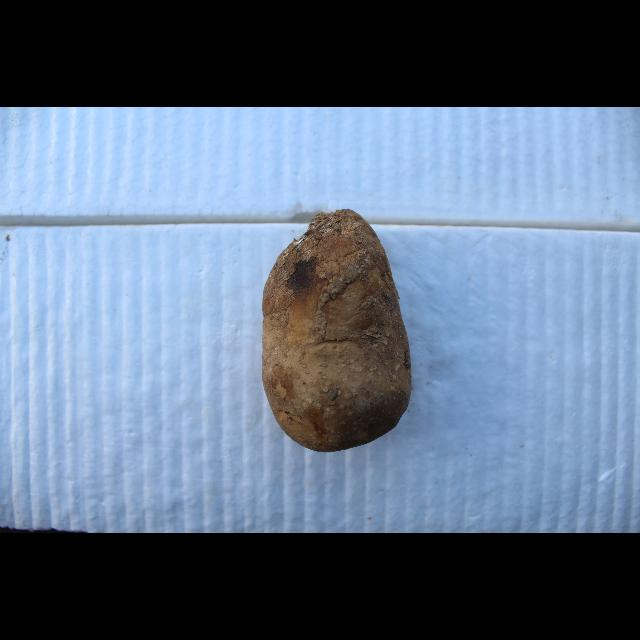Diseased-fungal potato: (264, 207, 414, 455)
